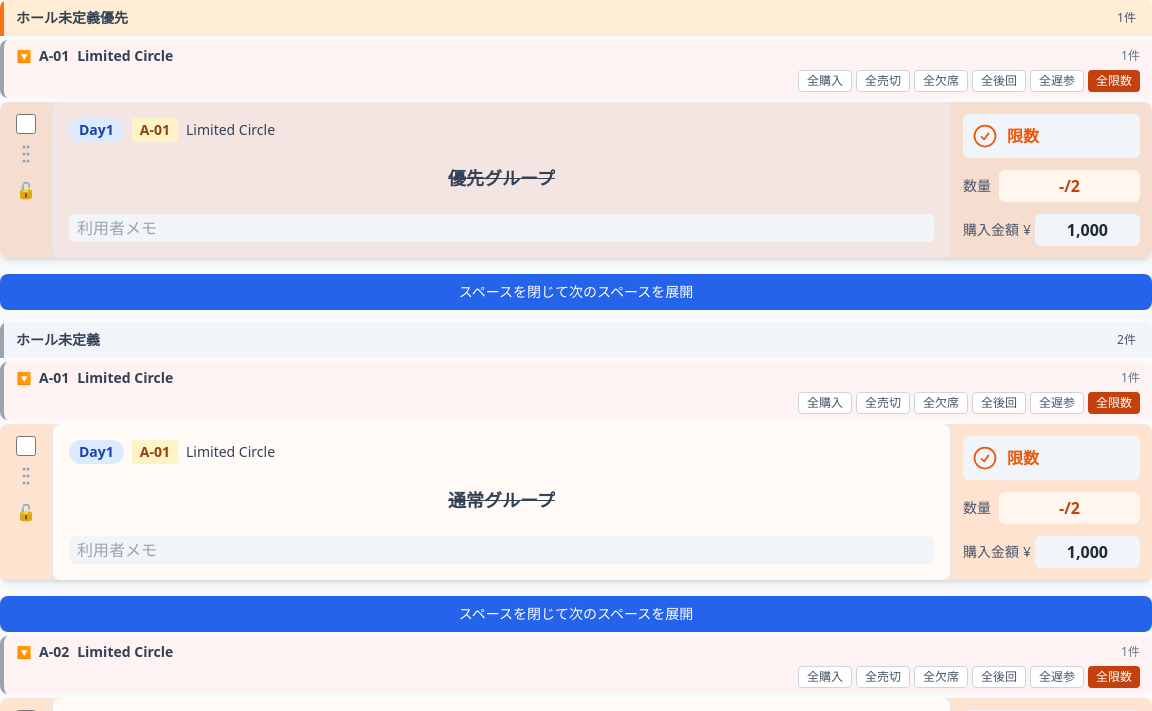
Scenario: ShoppingList purchase status control mode › does not share deferred limited quantities across priority groups in the same space
Click the 2nd button "-/2": (1070, 508) [999,492,1140,524]
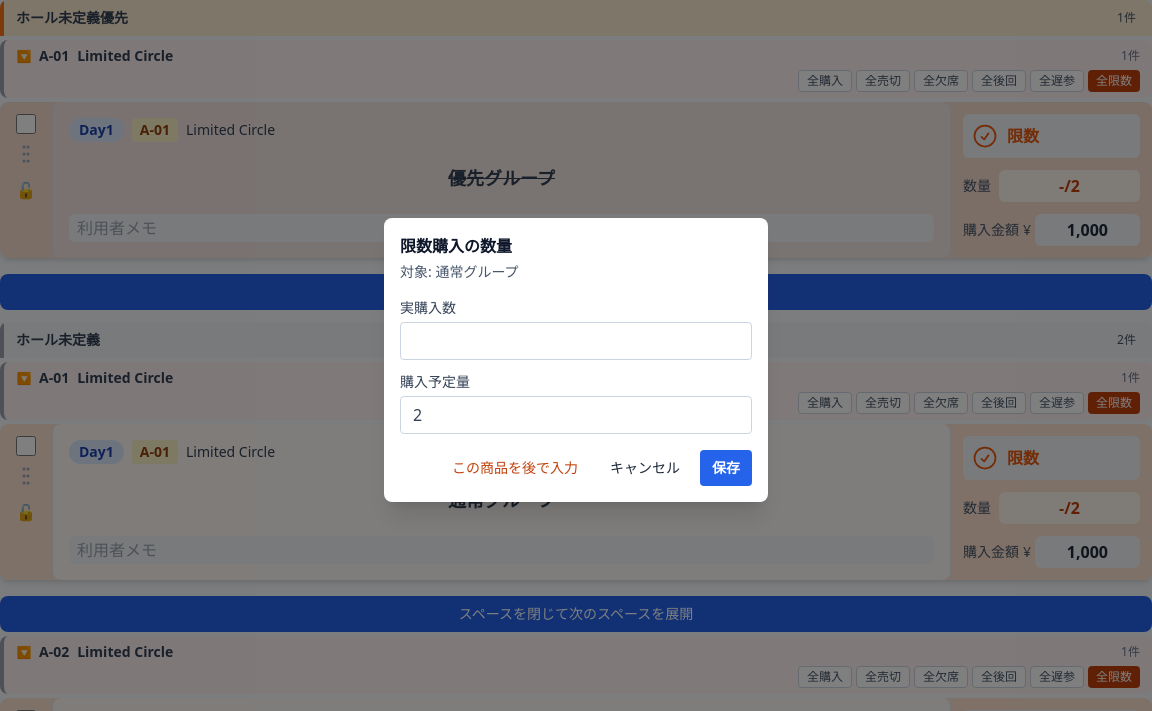
Click the button "この商品を後で入力": (515, 468) [440,450,590,486]
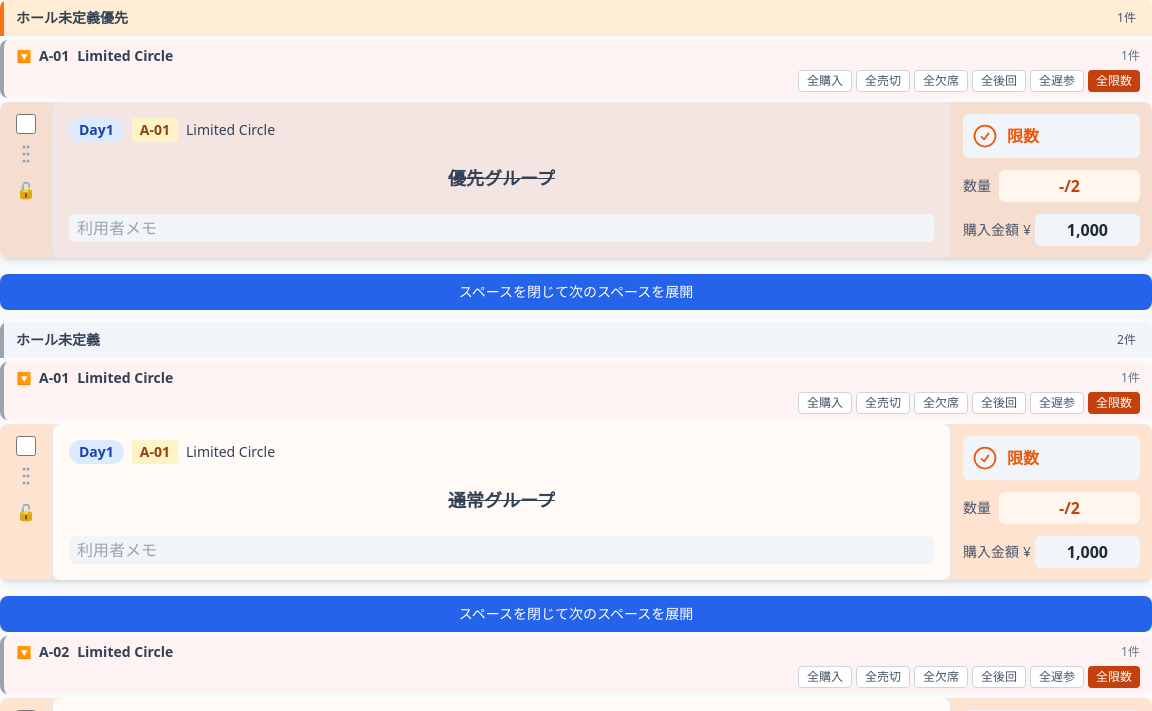
Click the button "スペースを閉じて次のスペースを展開" below "ホール未定義優先": (576, 292) [0,274,1151,310]
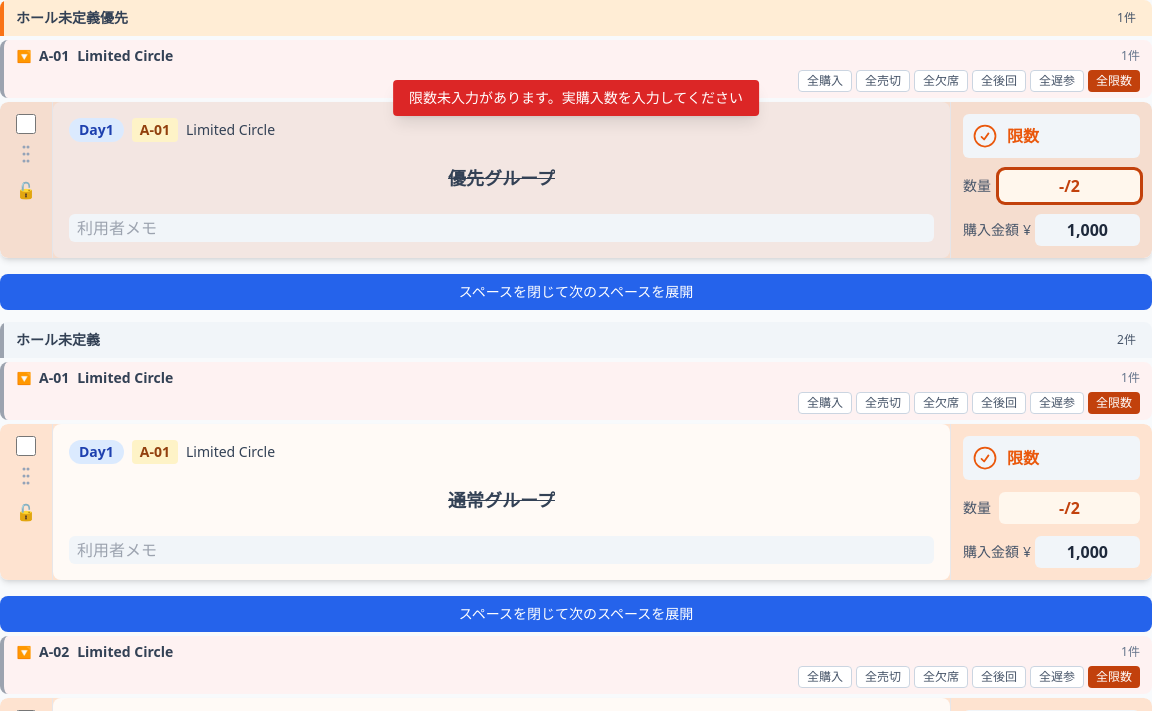
Result: the text "限数未入力があります。実購入数を入力してください" is shown at [393,80,759,116]
